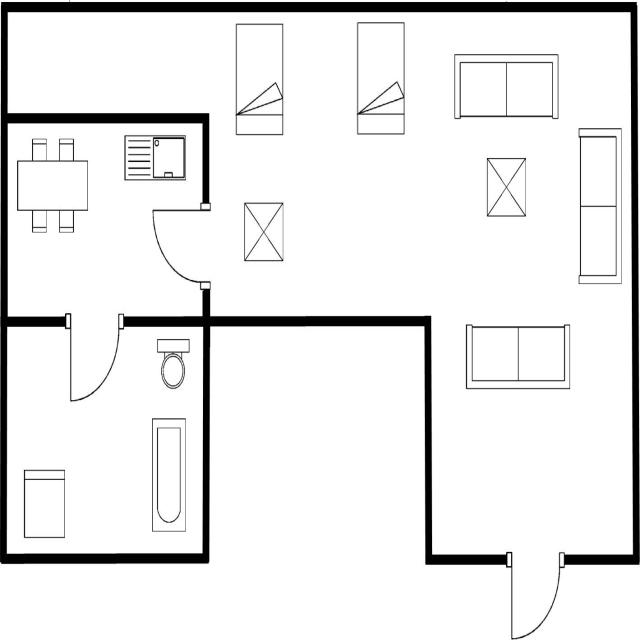bed: (232, 19, 286, 138), (354, 18, 406, 138)
coffee_table: (242, 198, 284, 264), (485, 156, 528, 218)
dining_table: (15, 134, 91, 238)
large_sink: (154, 335, 192, 392)
large_sofa: (450, 49, 560, 122), (576, 124, 624, 288), (463, 320, 571, 392)
sink: (120, 131, 188, 184)
small_sofa: (21, 466, 67, 541)
tub: (148, 414, 188, 534)
